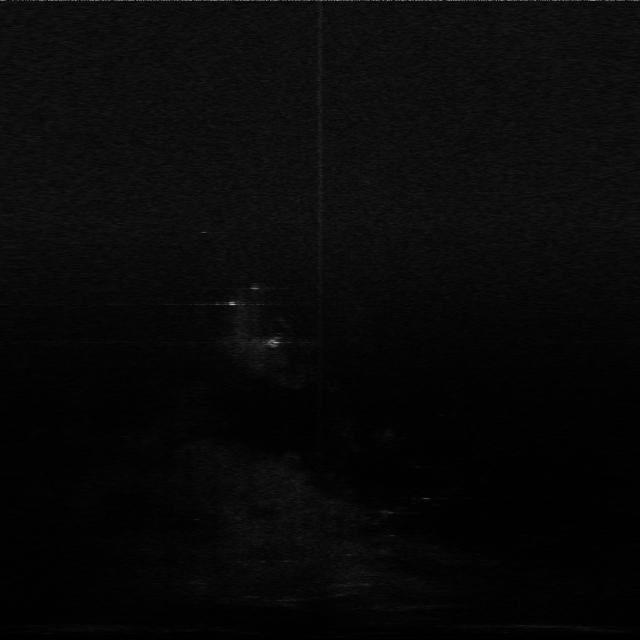rov: (262, 336, 284, 350)
